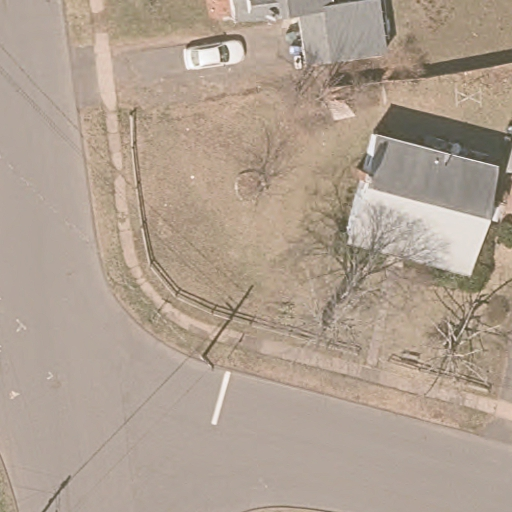DT: (195, 349, 217, 372)
